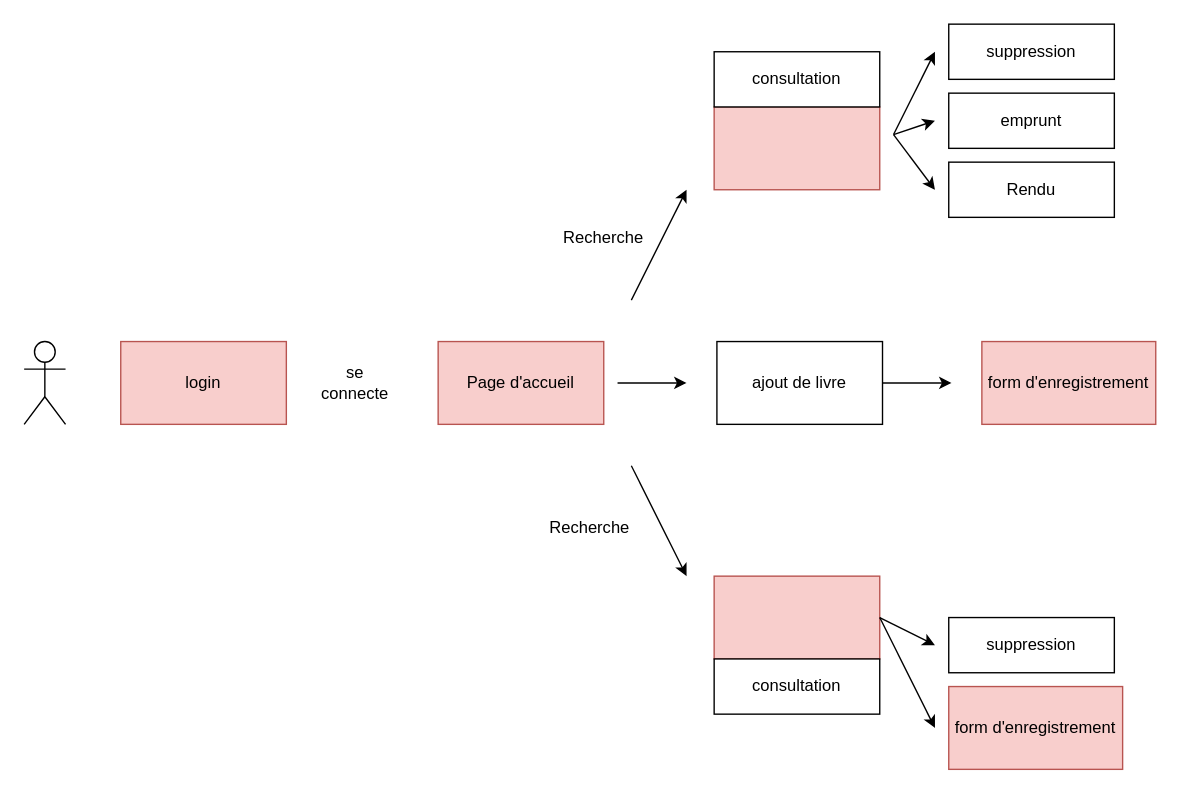
Image size: 1180x794. Some labels were removed from this diagram. The box of each missing label's shape, as (x1, y1, x2, y2) in pixels:
Actor: (23, 340, 66, 424)
Livre: (713, 106, 880, 190)
user: (713, 575, 880, 659)
